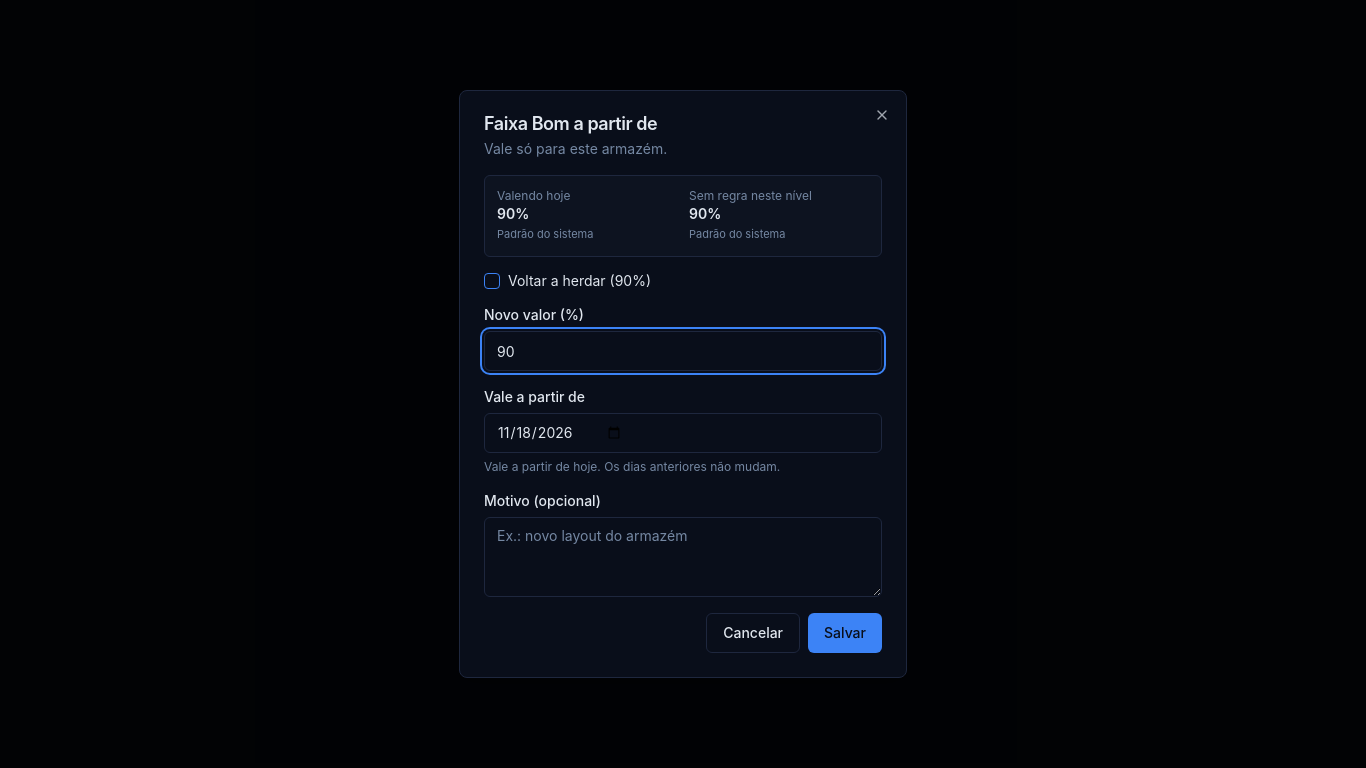
Test: Fase 7 · diálogo de alteração › data no passado exige motivo
Later steps or results of the test are not shown.
In the date field labelled "Vale a partir de": (683, 433) top-left (484, 413), bottom-right (882, 453), type "2026-11-10"
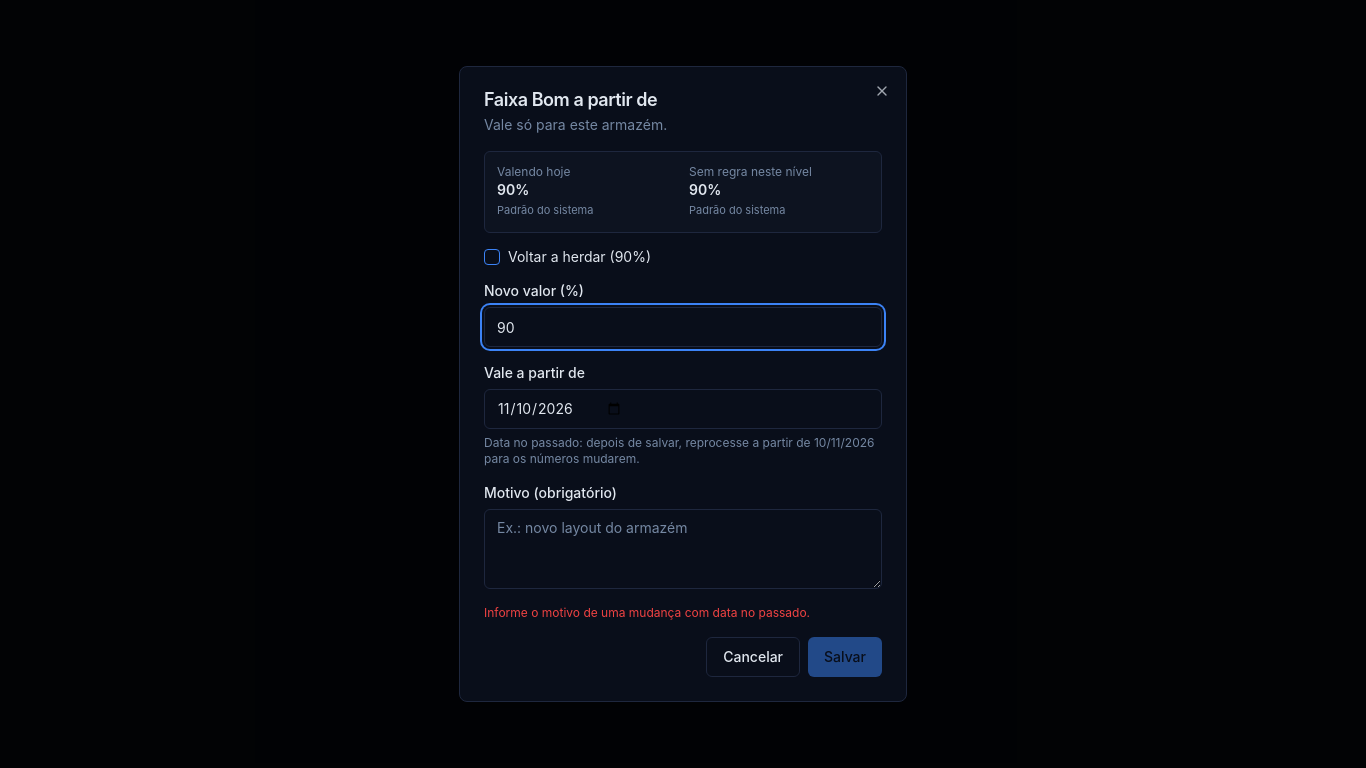
Check: the message shows "motivo", box top-left (484, 605), bottom-right (810, 620)
